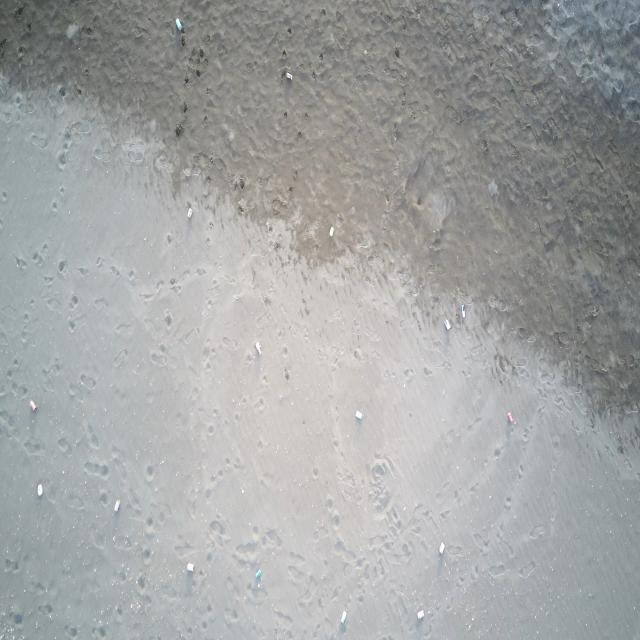tin-and-aluminum-cans: (174, 15, 184, 32), (340, 609, 348, 624), (255, 340, 262, 356), (443, 319, 452, 331), (114, 496, 120, 514), (37, 483, 44, 498), (29, 399, 37, 412), (438, 541, 445, 555), (355, 411, 364, 421), (417, 609, 425, 620), (285, 70, 293, 81), (507, 411, 514, 423), (186, 563, 195, 572), (461, 303, 466, 319), (255, 567, 261, 580), (187, 206, 193, 219), (329, 227, 334, 237)
